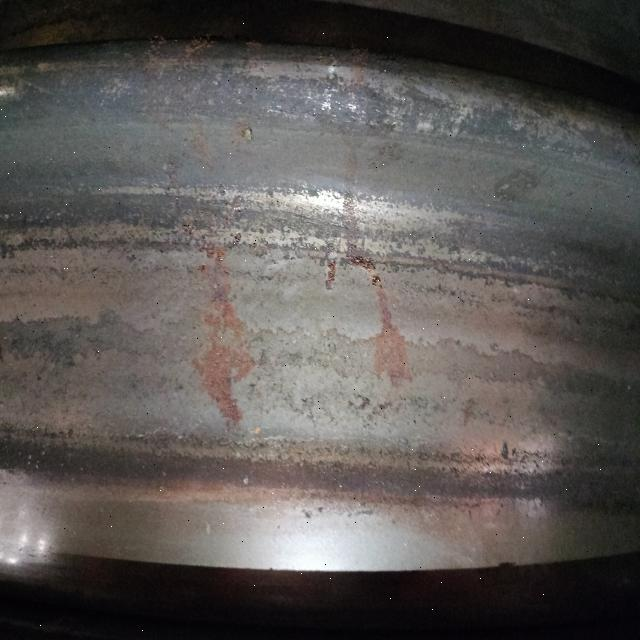Contact_Fatigue_Cracks: (89, 423, 307, 457)
